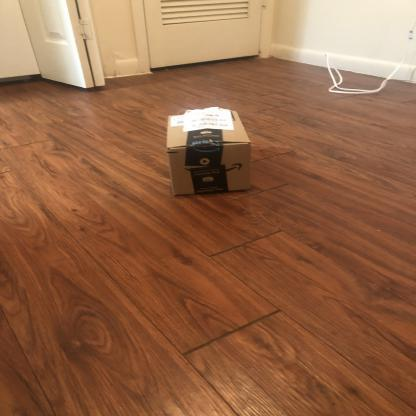package: (161, 107, 257, 201)
